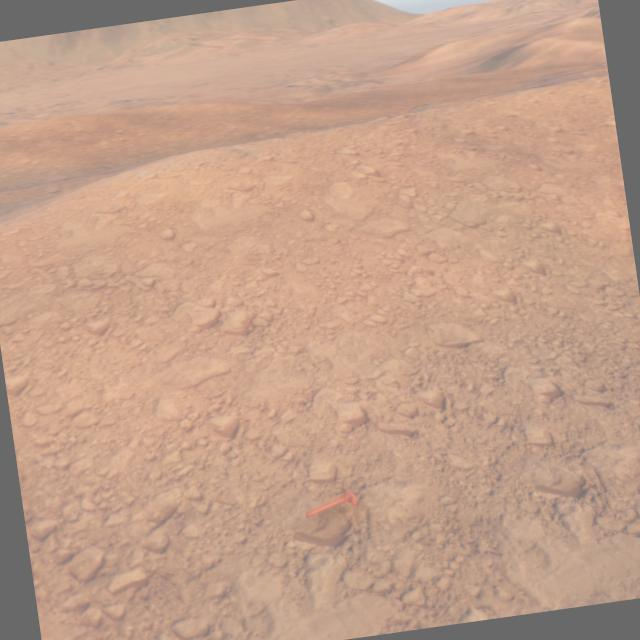newhammer: (302, 486, 358, 519)
